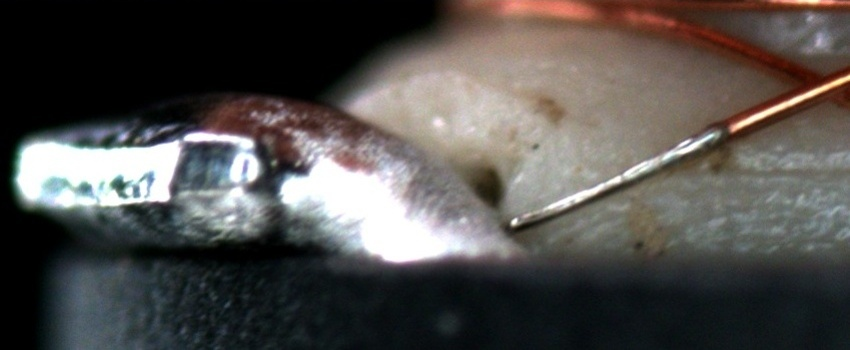CL: (773, 55, 848, 113)
DL: (689, 141, 849, 199)
TS: (506, 123, 728, 230)
